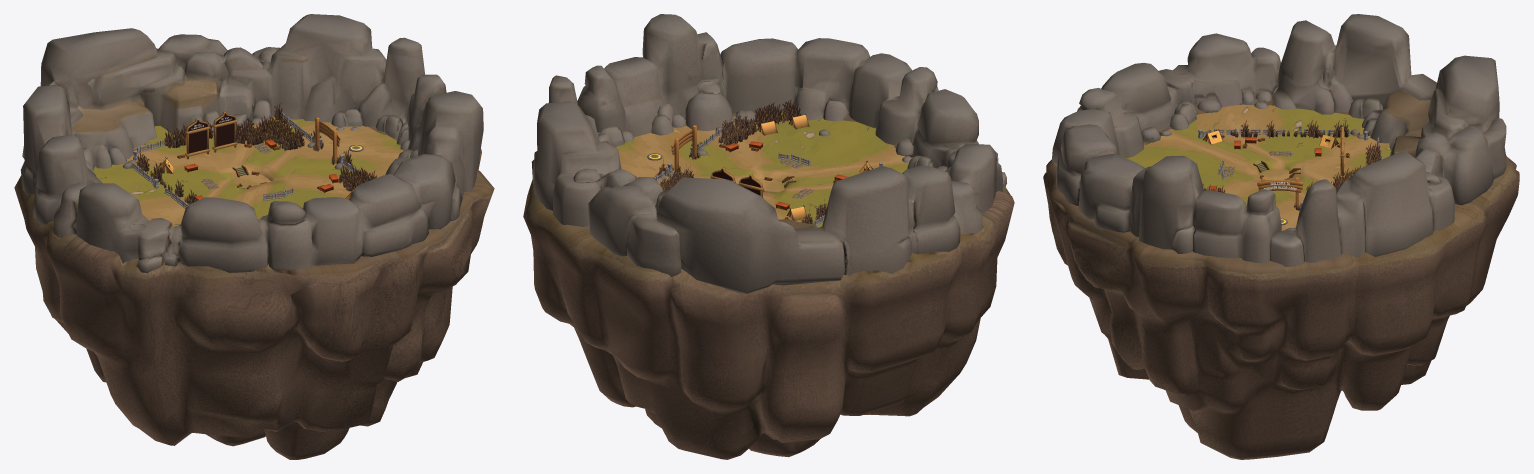
The model's file is camp.gltf.
3 views of the same model, side by side, from view 1: azimuth 30°, elevation 25°; view 2: azimuth 150°, elevation 25°; view 3: azimuth 270°, elevation 25° (orthographic). The views are drawn at different scales.
Visible parts, largest first — view 1: env_rocks, Floor.001, GN_Grass, base_leaderboard.001, base_leaderboard, GN_Grass.002, GN_Grass.001, welcome; view 2: env_rocks, Floor.001, GN_Grass.001, welcome; view 3: env_rocks, Floor.001, GN_Grass.002, welcome, GN_Grass.
Boxes of the visible parts, box(x1,y1,x2,y2) form: env_rocks: box(14, 14, 494, 459); Floor.001: box(93, 116, 403, 226); GN_Grass: box(164, 116, 304, 150); base_leaderboard.001: box(212, 111, 237, 152); base_leaderboard: box(185, 118, 209, 159); GN_Grass.002: box(136, 151, 196, 204); GN_Grass.001: box(339, 164, 375, 191); welcome: box(315, 117, 340, 163); env_rocks: box(523, 14, 1014, 459); Floor.001: box(616, 112, 909, 227); GN_Grass.001: box(718, 99, 801, 145); welcome: box(671, 125, 696, 171); env_rocks: box(1043, 14, 1519, 459); Floor.001: box(1126, 104, 1391, 230); GN_Grass.002: box(1230, 120, 1348, 138); welcome: box(1257, 177, 1303, 207); GN_Grass: box(1306, 141, 1380, 190).
Size of what is drawn, in the model's own units: 99.95 by 76.61 by 102.
15 materials, 13 textured.
